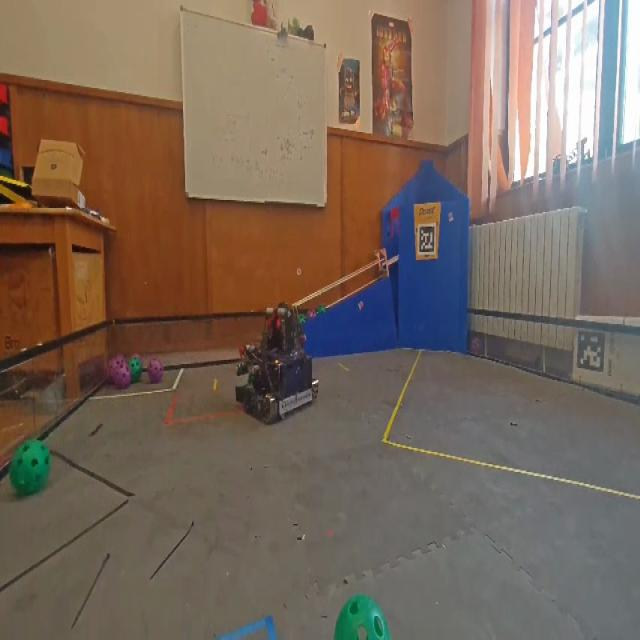artifact_green: (335, 595, 390, 639), (10, 440, 50, 495), (129, 356, 142, 383), (317, 304, 326, 314), (131, 354, 142, 362), (308, 310, 317, 319), (248, 374, 254, 385), (300, 314, 306, 323)
artifact_purple: (108, 355, 125, 383), (114, 363, 131, 389), (147, 358, 163, 383), (471, 336, 483, 355), (307, 309, 317, 320), (130, 354, 142, 362), (114, 355, 126, 363)
